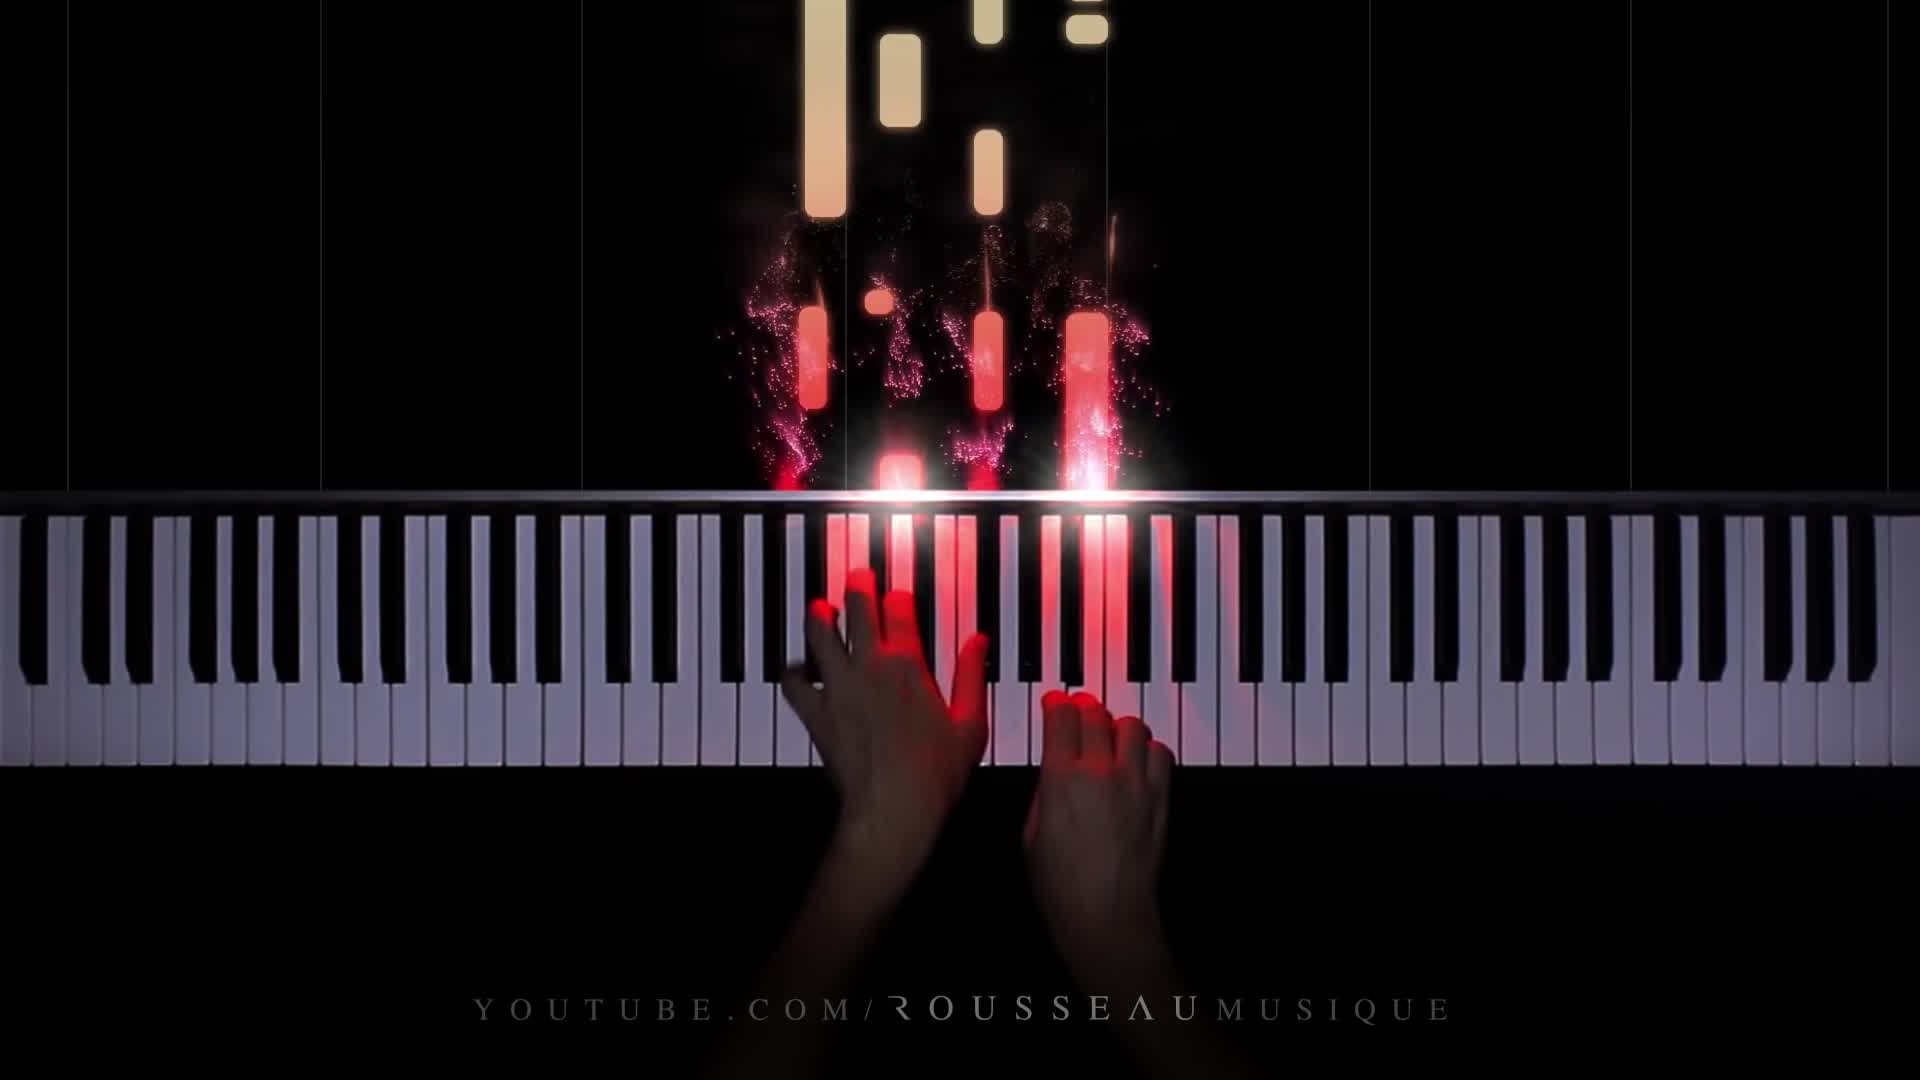left: (781, 560, 992, 836)
right: (1015, 684, 1183, 899)
